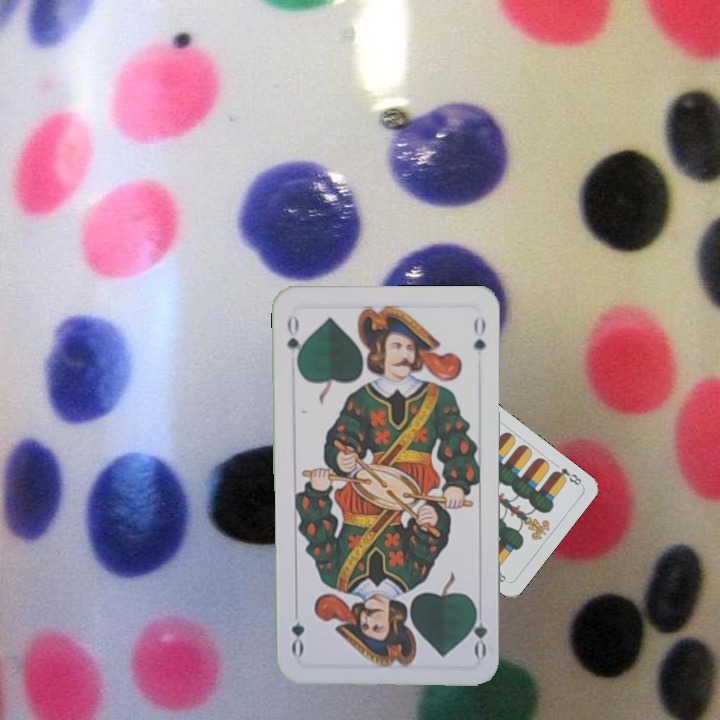E8: (549, 464, 584, 488)
GO: (465, 600, 490, 659), (282, 311, 305, 370)
